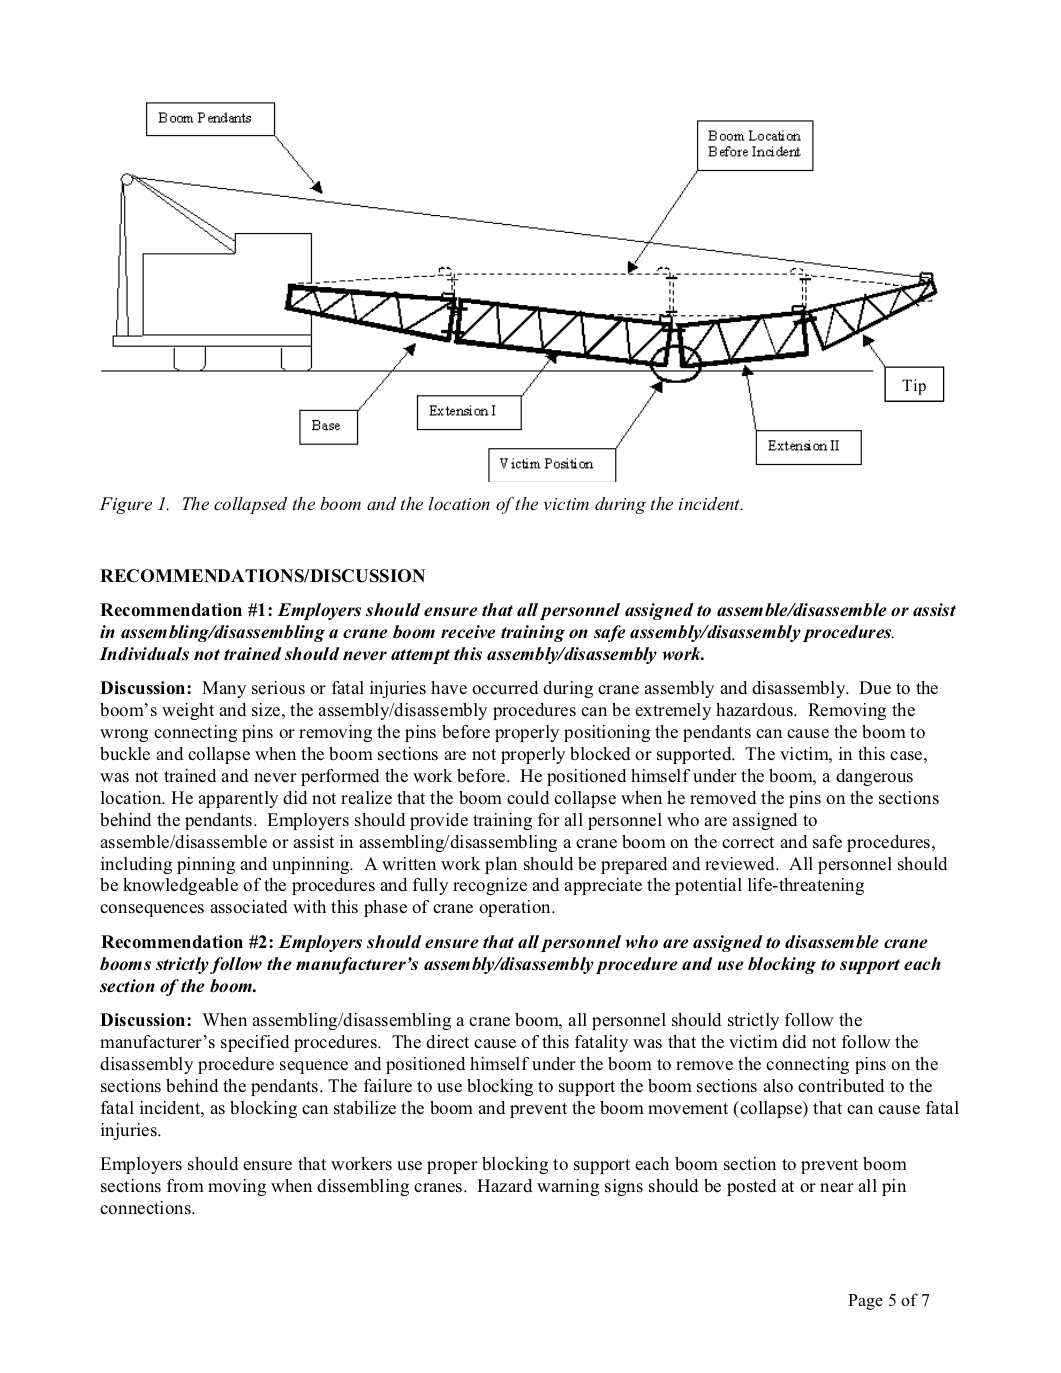figure: (101, 101, 944, 483)
